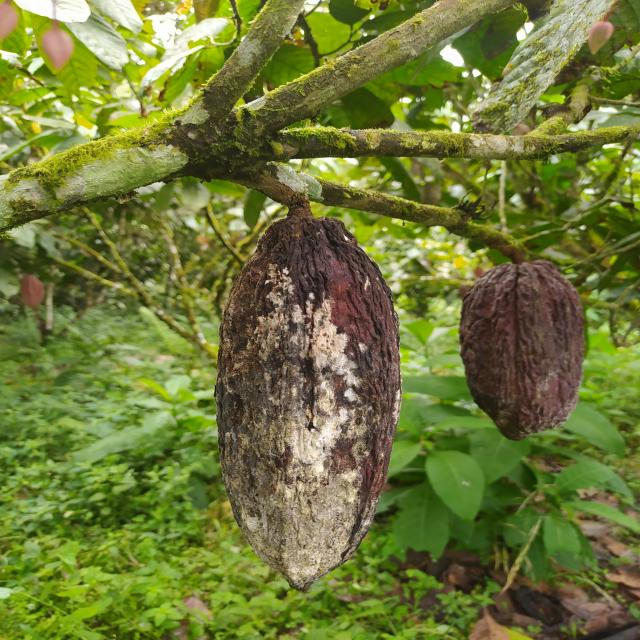Fitoftora: (213, 213, 403, 592), (458, 254, 590, 443)
